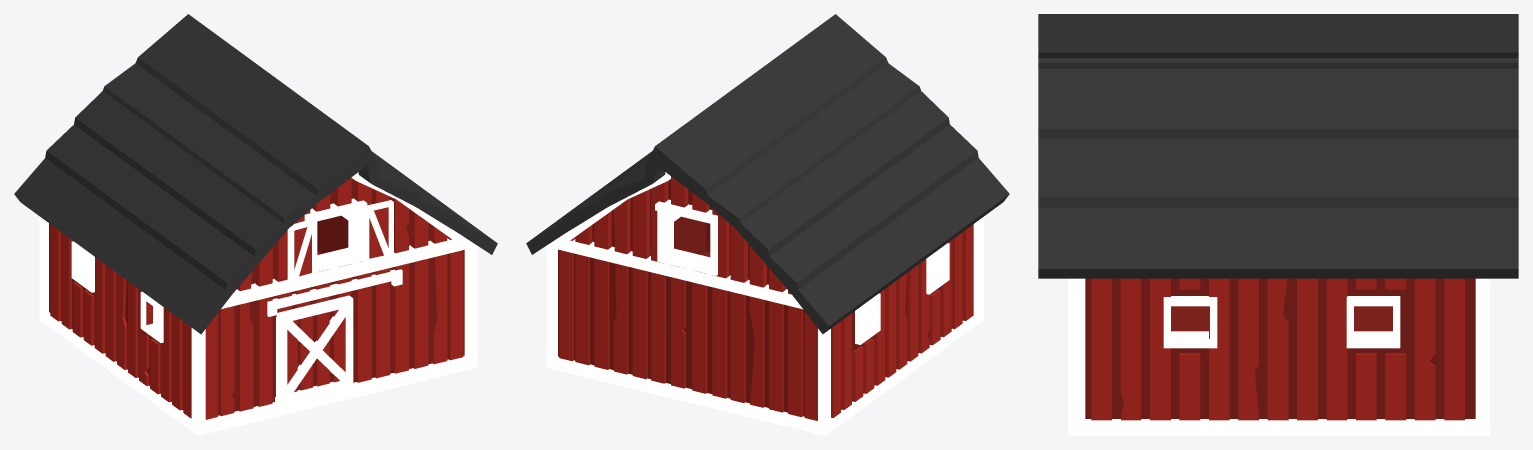
File: barn.glb
3 views of the same model, side by side, from view 1: azimuth 30°, elevation 25°; view 2: azimuth 150°, elevation 25°; view 3: azimuth 270°, elevation 25° (orthographic). The views are drawn at different scales.
Parts seen in each view (by area): view 1: Small_Barn, Small_Barn_Door, SmallBarn_Window, SmallBarn_Window2; view 2: Small_Barn; view 3: Small_Barn.
Part boxes in pixels (box(x1,y1,x2,y2)): Small_Barn: box(14, 14, 497, 435); Small_Barn_Door: box(276, 295, 353, 404); SmallBarn_Window: box(362, 200, 393, 264); SmallBarn_Window2: box(287, 218, 317, 283); Small_Barn: box(526, 14, 1009, 435); Small_Barn: box(1038, 14, 1518, 435).
Bounding box in the file's own units: 608 × 496 × 627.
